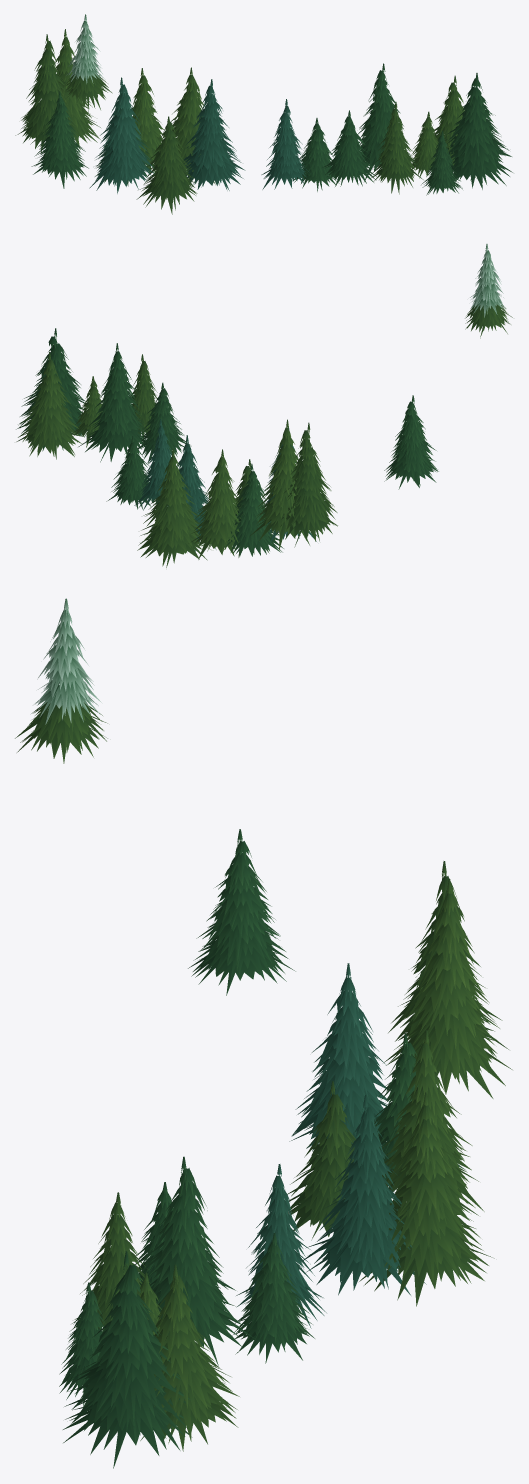
The model's file is pine_16.glb.
3 renders of one model, top to bottom at view 1: azimuth 30°, elevation 25°; view 2: azimuth 150°, elevation 25°; view 3: azimuth 270°, elevation 25°, orthographic. The views are drawn at different scales.
Visible parts, largest first — view 1: pine_16; view 2: pine_16; view 3: pine_16.
Part boxes in pixels (<box>): pine_16: <box>15,14,512,214</box>; pine_16: <box>16,244,512,567</box>; pine_16: <box>15,598,512,1468</box>.
Size of the model in its own units: 60.4 by 35.14 by 31.85.
Materials: 1 (1 with a texture image).
